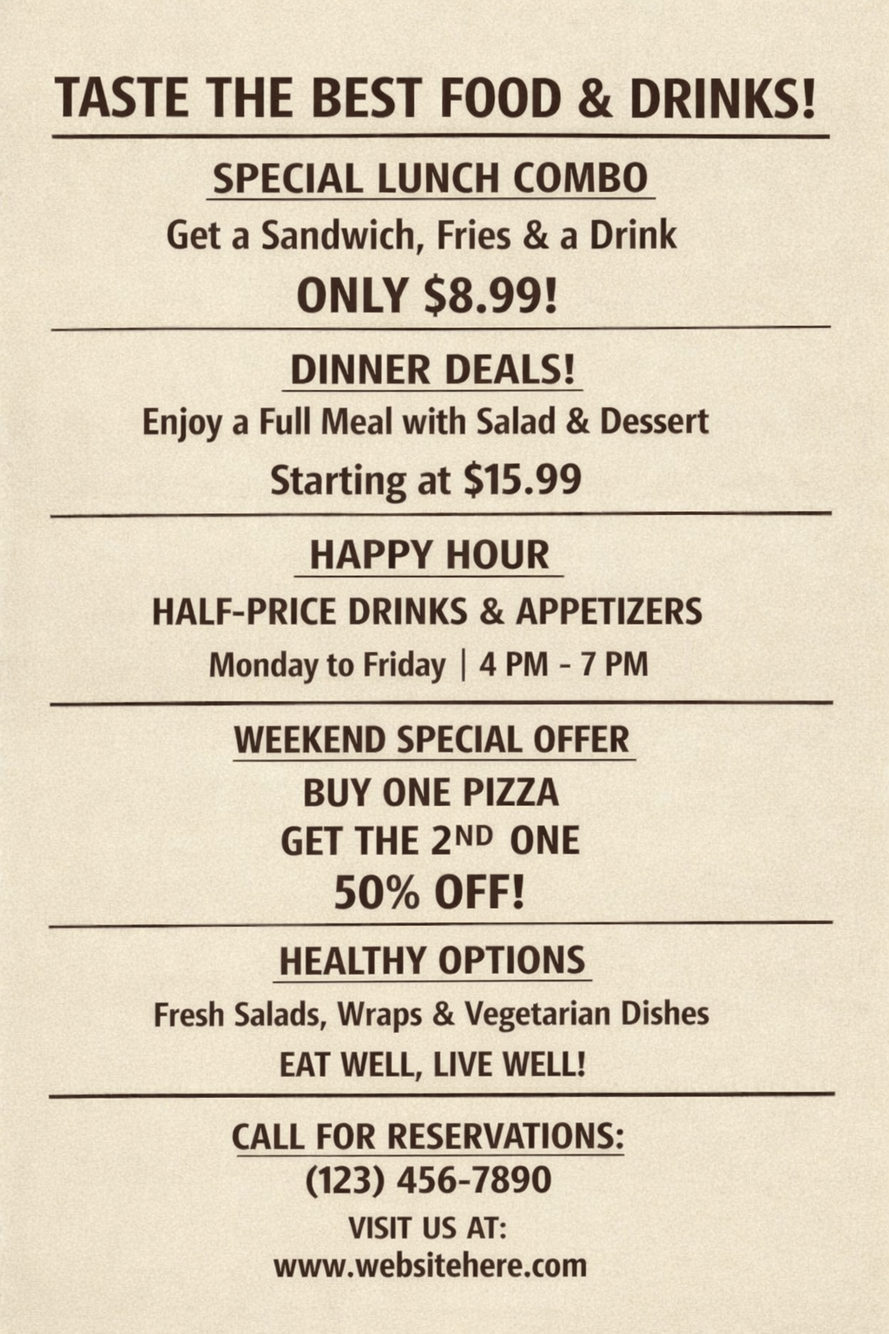CTA: (226, 1121, 640, 1158), (260, 1046, 605, 1088)
Headline: (35, 61, 832, 142)
Price: (275, 763, 582, 919), (145, 591, 726, 637), (263, 455, 598, 510), (278, 264, 585, 324)
